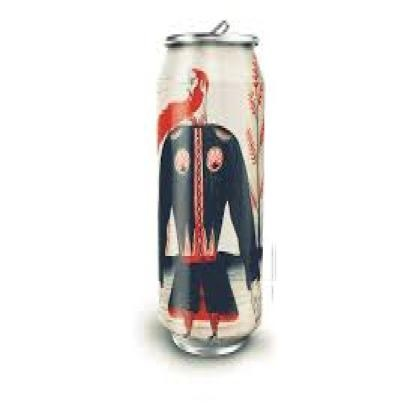trash: (157, 21, 263, 355)
